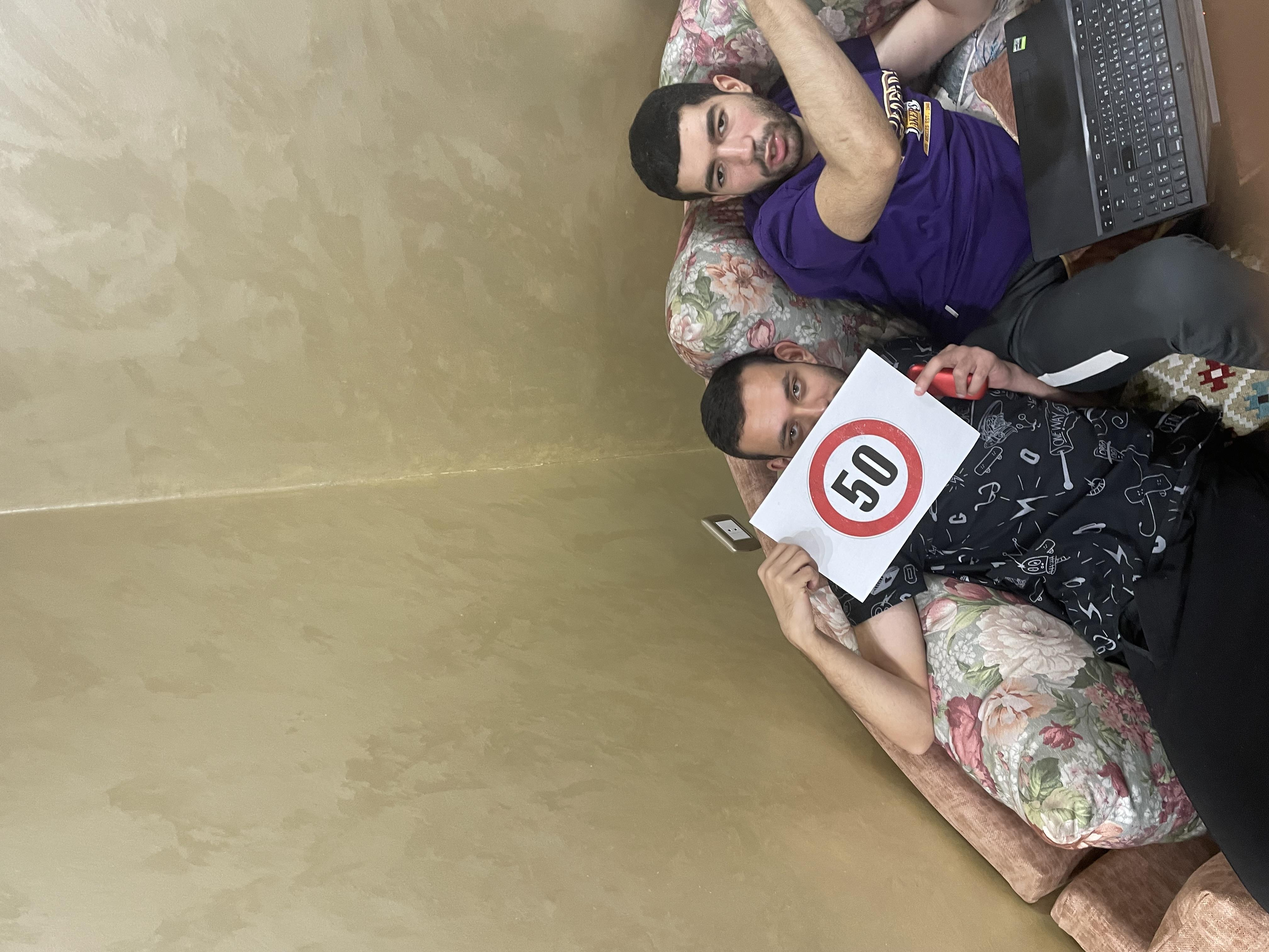50-Speed: (550, 605, 716, 696)
